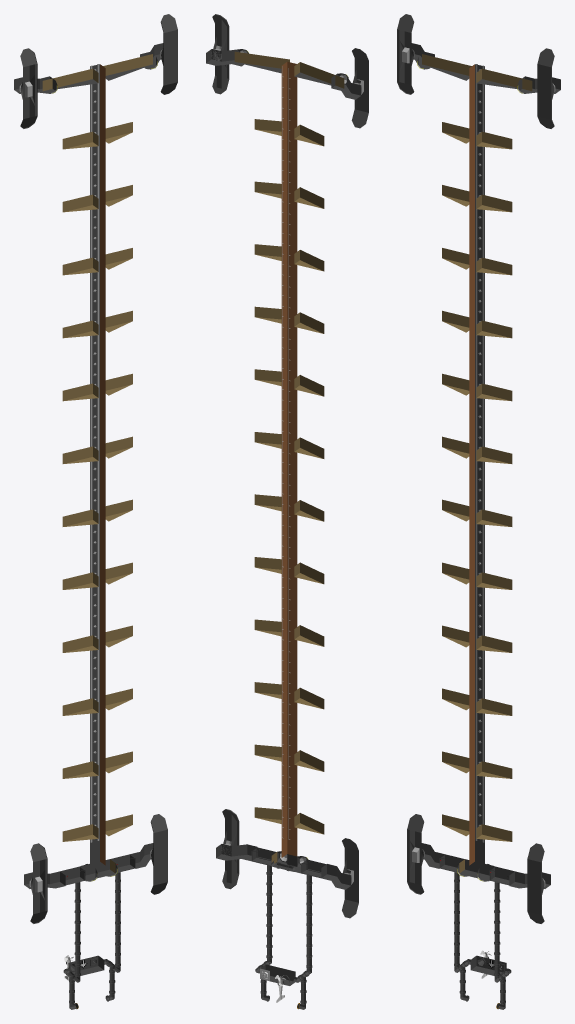
The model's file is 10711-b15b7add-98a3-4b09-a2e7-0f7811008bf4.glb.
3 renders of one model, left to right at view 1: azimuth 30°, elevation 25°; view 2: azimuth 150°, elevation 25°; view 3: azimuth 330°, elevation 25°, orthographic.
Visible parts, largest first — view 1: Object_8.Mesh; view 2: Object_8.Mesh; view 3: Object_8.Mesh.
Boxes of the visible parts, bbox=[...] form: Object_8.Mesh: bbox=[14, 14, 177, 1009]; Object_8.Mesh: bbox=[206, 14, 368, 1009]; Object_8.Mesh: bbox=[397, 14, 560, 1009].
Size of the model in its own units: 0.6286 by 3.8 by 0.2112.
